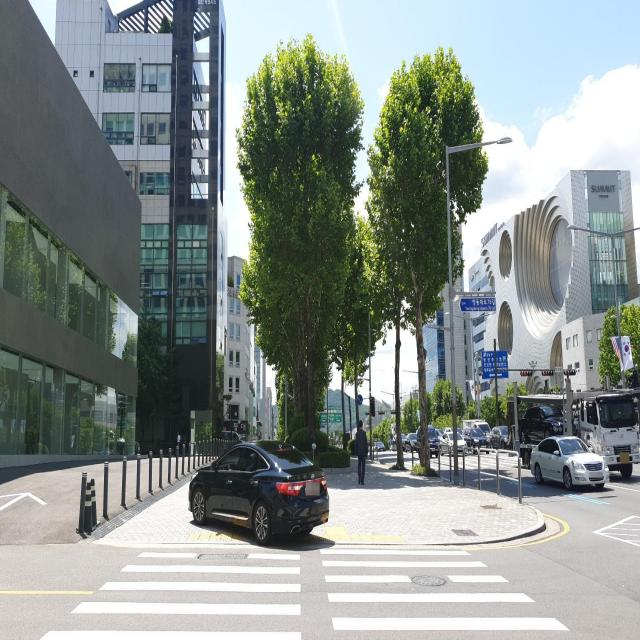횡단보도: (40, 548, 569, 639)
